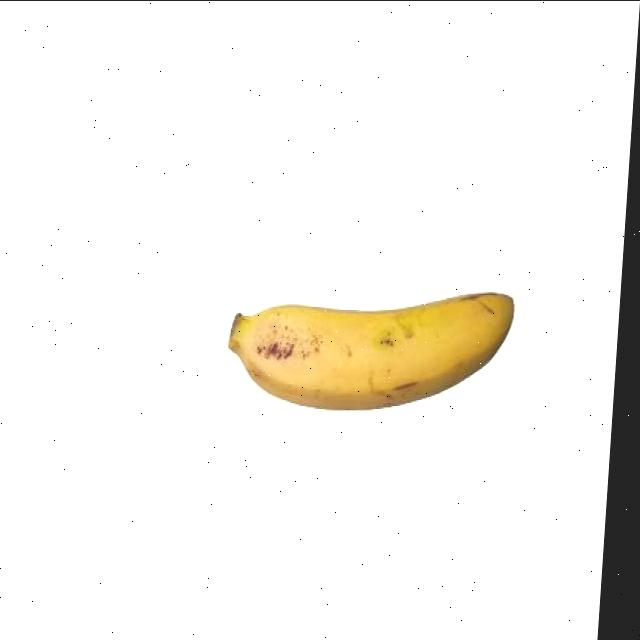banana: (220, 280, 522, 418)
